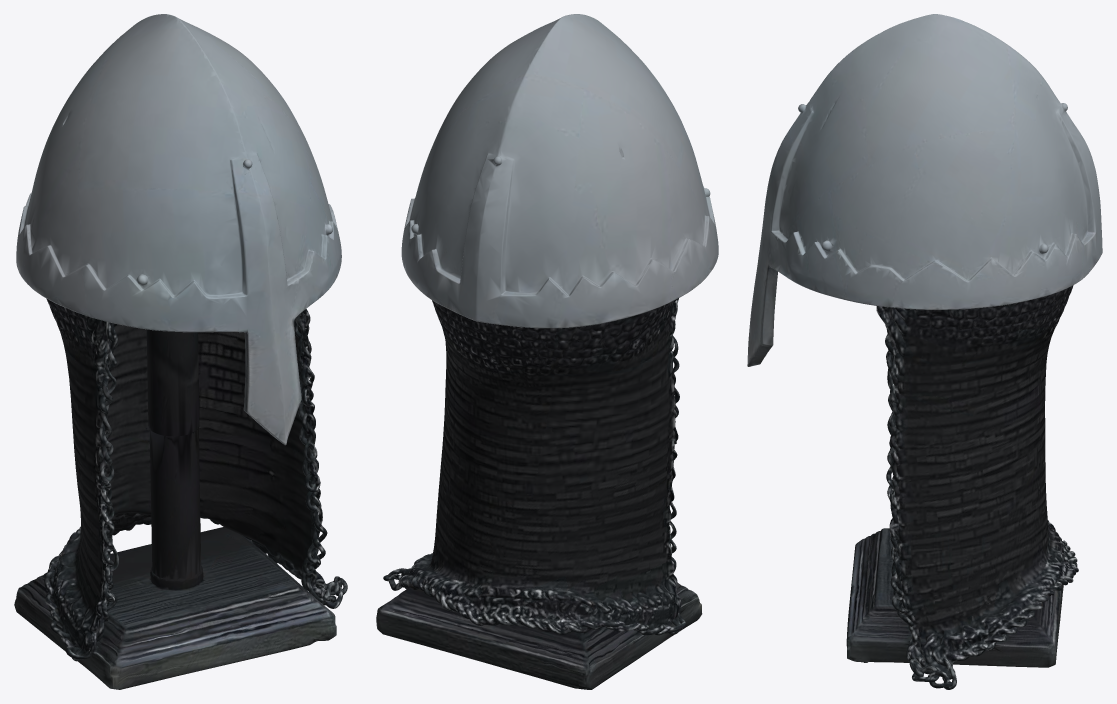
File: jiretop.glb
3 renders of one model, left to right at view 1: azimuth 30°, elevation 25°; view 2: azimuth 150°, elevation 25°; view 3: azimuth 270°, elevation 25°, orthographic. The views are drawn at different scales.
Parts seen in each view (by area): view 1: tripo_node_a8acf327-134a-4f59-a1a2-855c8059035d; view 2: tripo_node_a8acf327-134a-4f59-a1a2-855c8059035d; view 3: tripo_node_a8acf327-134a-4f59-a1a2-855c8059035d.
Part boxes in pixels (<box>): tripo_node_a8acf327-134a-4f59-a1a2-855c8059035d: <box>14,14,347,689</box>; tripo_node_a8acf327-134a-4f59-a1a2-855c8059035d: <box>376,14,718,689</box>; tripo_node_a8acf327-134a-4f59-a1a2-855c8059035d: <box>747,14,1102,689</box>.
Bounding box in the file's own units: 0.5178 × 0.9805 × 0.5276.
1 material, 1 textured.
